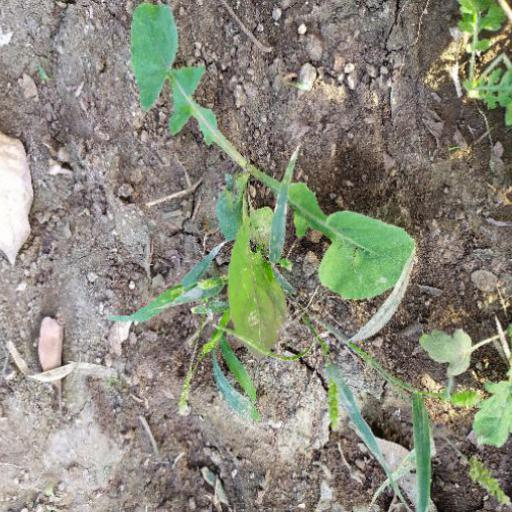weed: (99, 1, 422, 430)
